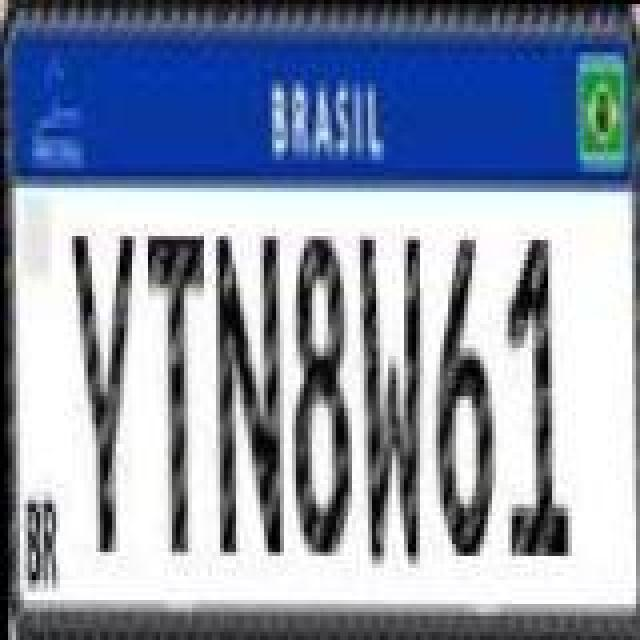1: (502, 228, 570, 564)
6: (426, 226, 494, 562)
8: (286, 226, 354, 562)
N: (212, 226, 284, 562)
T: (144, 232, 208, 556)
W: (354, 222, 422, 566)
Y: (68, 230, 140, 554)
